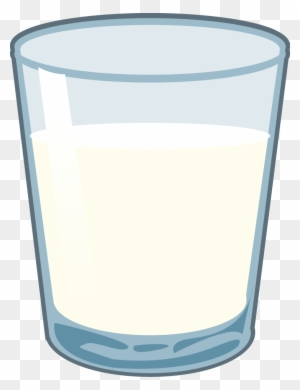glass of milk: (11, 7, 292, 375)
